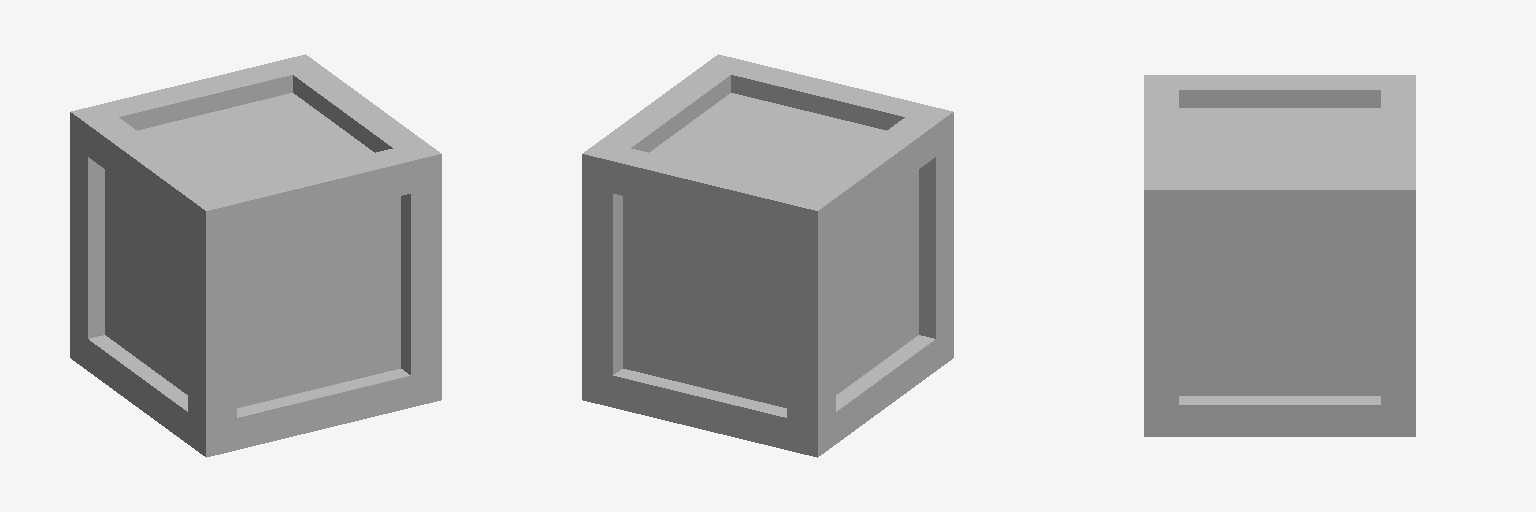
Rendered from crate.obj.
3 renders of one model, left to right at view 1: azimuth 30°, elevation 25°; view 2: azimuth 150°, elevation 25°; view 3: azimuth 270°, elevation 25°, orthographic.
Visible parts, largest first — view 1: cube_Cube.002; view 2: cube_Cube.002; view 3: cube_Cube.002.
Boxes of the visible parts, <box> form: cube_Cube.002: <box>70,54,441,457</box>; cube_Cube.002: <box>582,54,953,457</box>; cube_Cube.002: <box>1144,75,1415,436</box>.
Bounding box in the file's own units: 1 × 1 × 1.